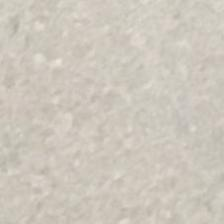Non_Crack: (30, 41, 224, 215)
